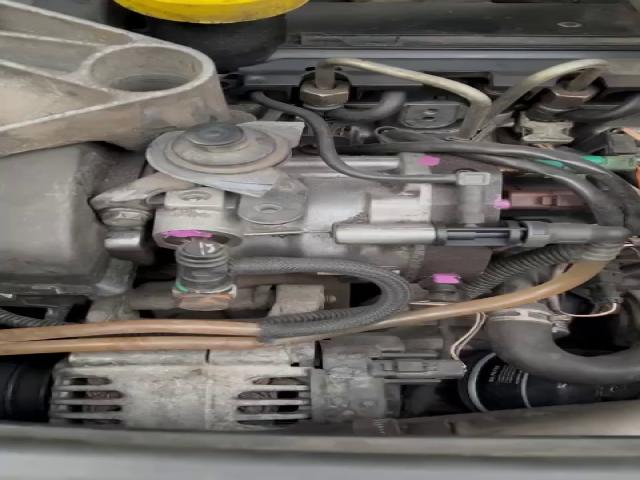alternator: (46, 334, 475, 431)
high_pressure_pump: (148, 153, 530, 296)
